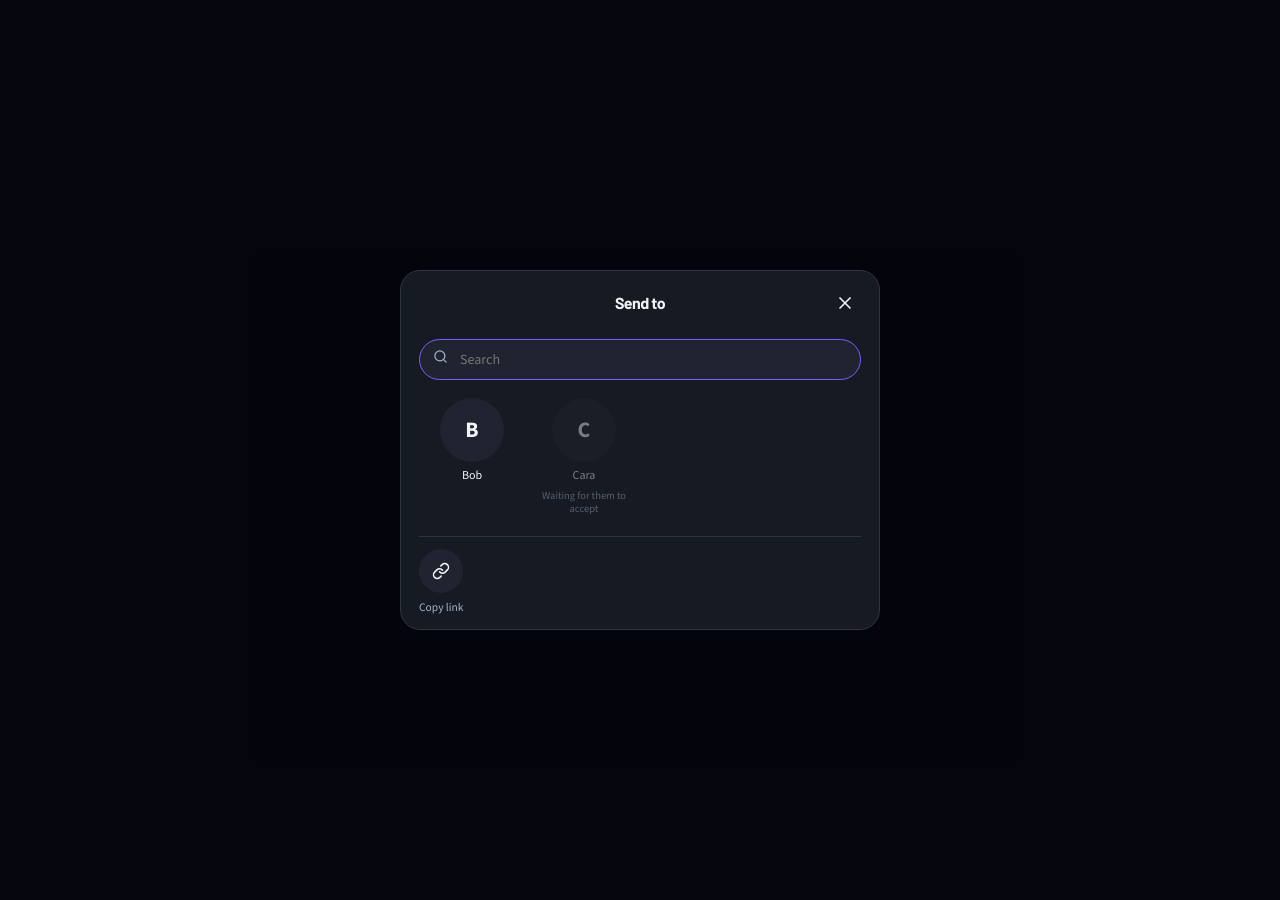
SharePostDialog › narrows the chats as you type
Type "bo" into the search field labelled "Search".
click(640, 359); type("bo")  # box [419,339,861,380]
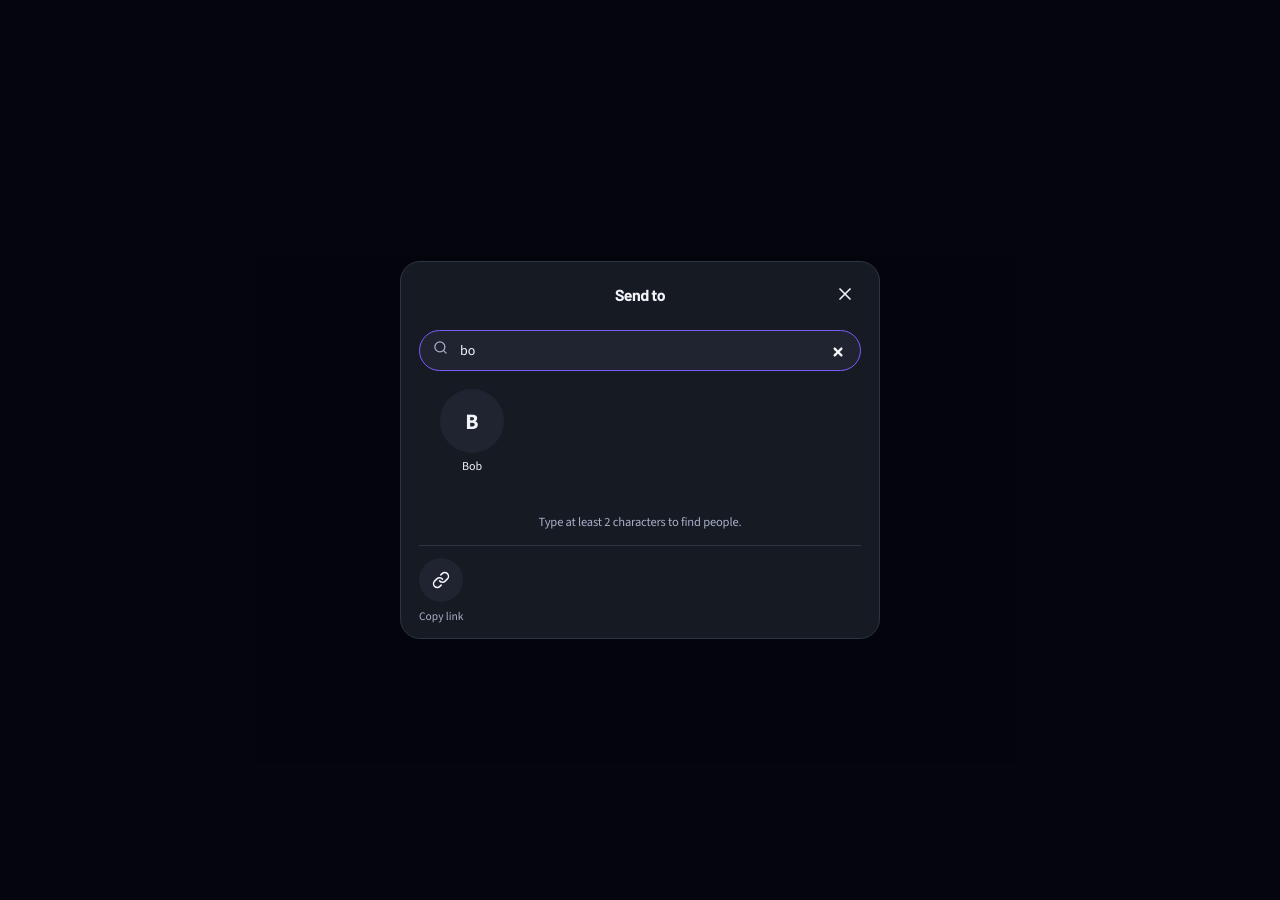
Expected: the checkbox labelled "B Bob" is shown, [419,389,525,474]
Expected: the checkbox labelled "Cara" is gone
